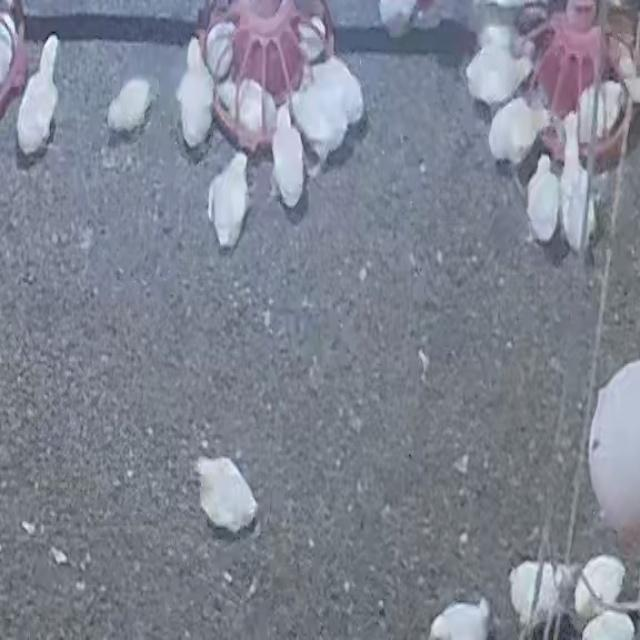chicken: (17, 34, 65, 154), (485, 98, 555, 168), (198, 456, 259, 532), (286, 93, 349, 166), (207, 155, 252, 253), (175, 39, 213, 152), (463, 48, 539, 101), (559, 144, 597, 242), (315, 59, 367, 128), (213, 82, 275, 137), (511, 559, 559, 624), (104, 81, 158, 137), (273, 106, 302, 207), (574, 560, 627, 612), (529, 155, 557, 246), (427, 601, 492, 640), (581, 86, 622, 135), (208, 25, 239, 75), (377, 0, 418, 36), (586, 611, 635, 640), (294, 19, 323, 63)
